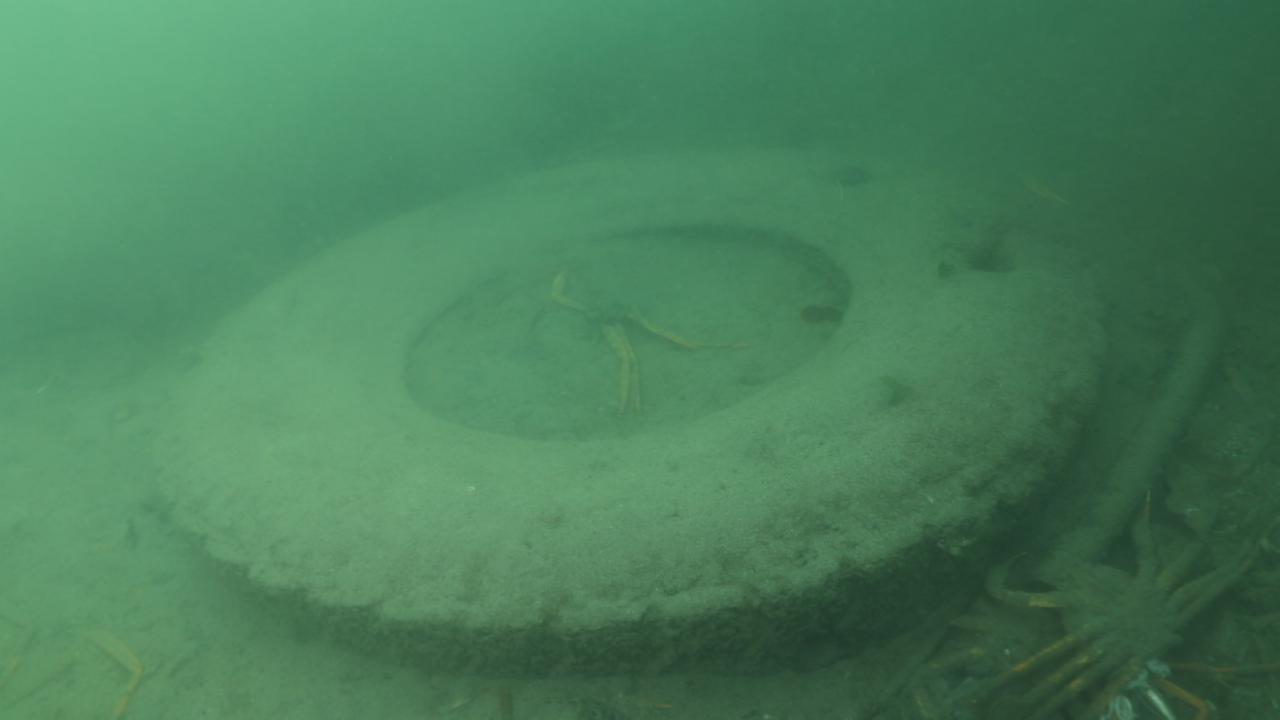tire: (153, 143, 1108, 665)
